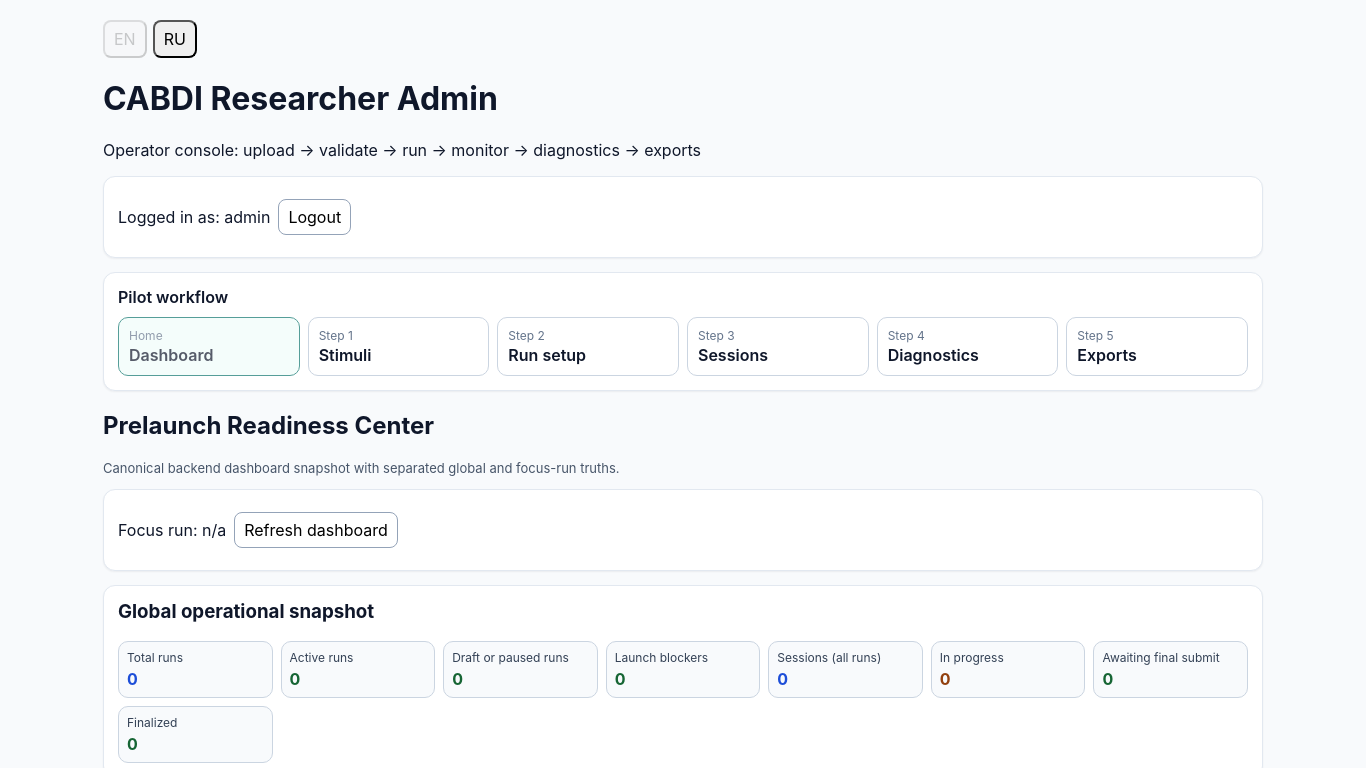
Test: researcher auth shell › uses readable run selector labels in monitor flow
The width and height of the screenshot is (1366, 768).
Check: the text "Logged in as: admin" is shown, box [118, 207, 270, 227]
Click the button with aria-label "Step 3: Monitor Sessions": (778, 346) [687, 317, 869, 376]
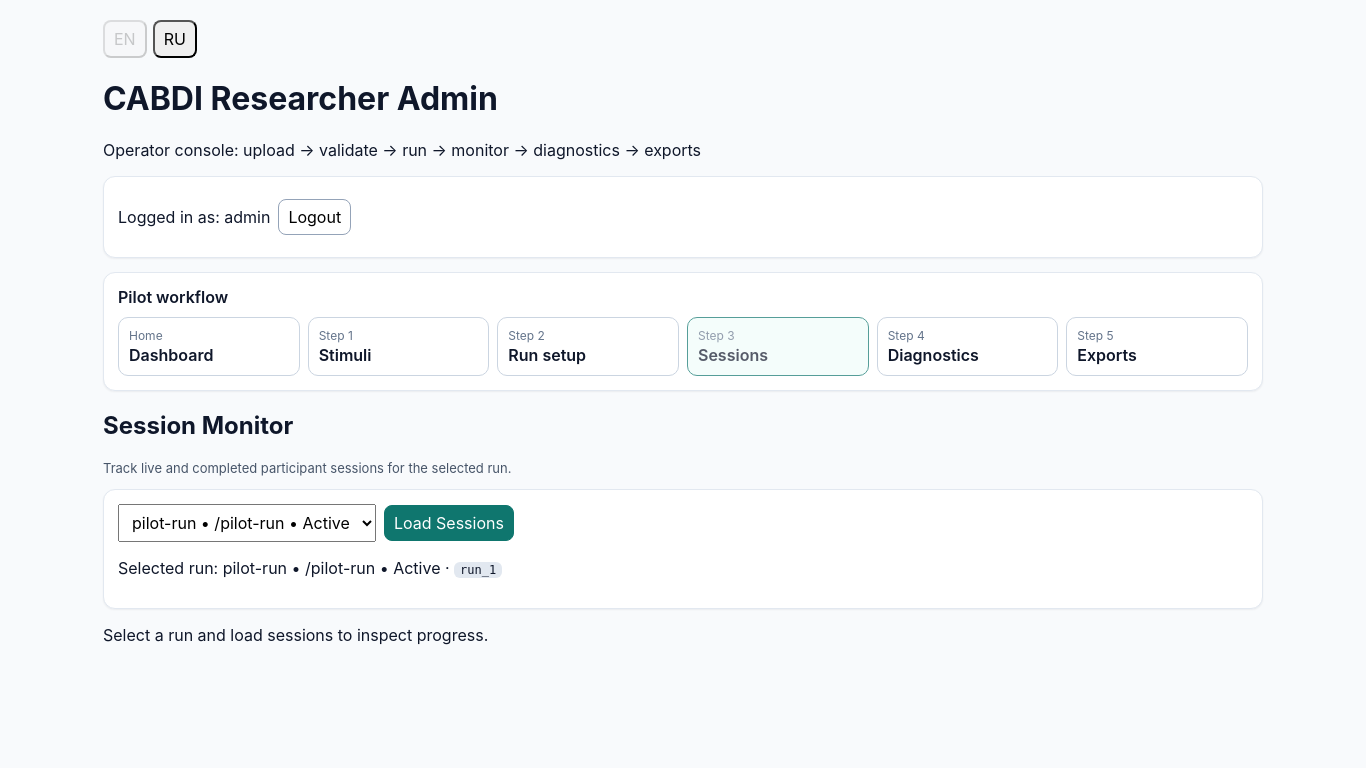
Check: the text "Selected run: pilot-run • /pilot-run • Active · run_1" is shown, box [118, 558, 502, 578]
Check: the text "run_1" is shown, box [454, 562, 502, 578]
